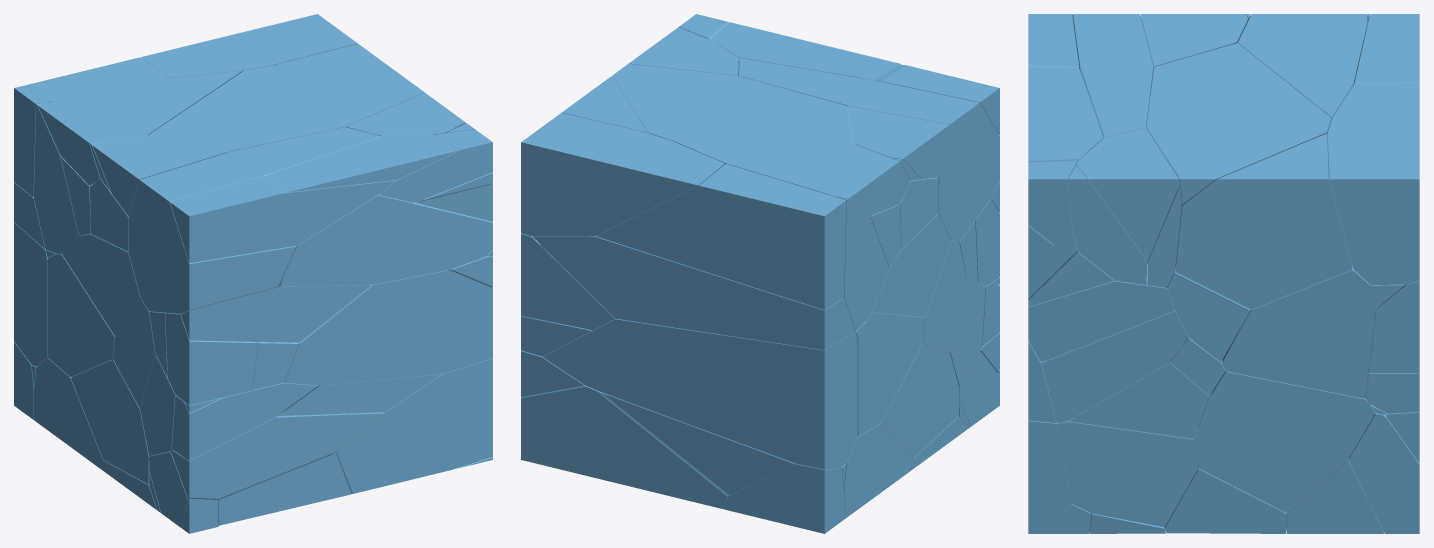
File: NewCubeFrags.fbx
3 renders of one model, left to right at view 1: azimuth 30°, elevation 25°; view 2: azimuth 150°, elevation 25°; view 3: azimuth 270°, elevation 25°, orthographic. The views are drawn at different scales.
Parts seen in each view (by area): view 1: CubeAst_cell.030, CubeAst_cell.040, CubeAst_cell.025, CubeAst_cell.029, CubeAst_cell, CubeAst_cell.044, CubeAst_cell.005, CubeAst_cell.007, CubeAst_cell.011, CubeAst_cell.022, CubeAst_cell.016, CubeAst_cell.004 (+26 smaller); view 2: CubeAst_cell.015, CubeAst_cell.002, CubeAst_cell.022, CubeAst_cell.026, CubeAst_cell.025, CubeAst_cell.027, CubeAst_cell.040, CubeAst_cell.007, CubeAst_cell.001, CubeAst_cell.037_cell, CubeAst_cell.004, CubeAst_cell.014 (+21 smaller); view 3: CubeAst_cell.013, CubeAst_cell.025, CubeAst_cell.024, CubeAst_cell.022, CubeAst_cell.043, CubeAst_cell.003, CubeAst_cell.007, CubeAst_cell.047, CubeAst_cell.040, CubeAst_cell.033_cell.001, CubeAst_cell.048, CubeAst_cell.016 (+24 smaller).
Boxes of the visible parts, x1=… form: CubeAst_cell.030: x1=284, y1=270, x2=492, y2=385; CubeAst_cell.040: x1=128, y1=127, x2=381, y2=313; CubeAst_cell.025: x1=148, y1=65, x2=424, y2=152; CubeAst_cell.029: x1=280, y1=194, x2=492, y2=286; CubeAst_cell: x1=331, y1=358, x2=492, y2=493; CubeAst_cell.044: x1=170, y1=175, x2=395, y2=263; CubeAst_cell.005: x1=171, y1=410, x2=384, y2=499; CubeAst_cell.007: x1=38, y1=70, x2=242, y2=185; CubeAst_cell.011: x1=181, y1=285, x2=371, y2=342; CubeAst_cell.022: x1=140, y1=14, x2=357, y2=78; CubeAst_cell.016: x1=268, y1=134, x2=458, y2=192; CubeAst_cell.004: x1=47, y1=253, x2=115, y2=376; CubeAst_cell.015: x1=542, y1=304, x2=857, y2=469; CubeAst_cell.002: x1=596, y1=164, x2=846, y2=310; CubeAst_cell.022: x1=521, y1=113, x2=724, y2=236; CubeAst_cell.026: x1=532, y1=235, x2=855, y2=350; CubeAst_cell.025: x1=612, y1=63, x2=854, y2=144; CubeAst_cell.027: x1=521, y1=383, x2=845, y2=508; CubeAst_cell.040: x1=738, y1=58, x2=999, y2=241; CubeAst_cell.007: x1=674, y1=141, x2=910, y2=215; CubeAst_cell.001: x1=602, y1=393, x2=796, y2=495; CubeAst_cell.037_cell: x1=723, y1=464, x2=844, y2=533; CubeAst_cell.004: x1=857, y1=312, x2=924, y2=436; CubeAst_cell.014: x1=880, y1=343, x2=959, y2=457; CubeAst_cell.013: x1=1175, y1=133, x2=1352, y2=309; CubeAst_cell.025: x1=1146, y1=43, x2=1331, y2=207; CubeAst_cell.024: x1=1194, y1=371, x2=1374, y2=513; CubeAst_cell.022: x1=1327, y1=82, x2=1419, y2=284; CubeAst_cell.043: x1=1222, y1=265, x2=1376, y2=398; CubeAst_cell.003: x1=1057, y1=421, x2=1197, y2=527; CubeAst_cell.007: x1=1234, y1=14, x2=1367, y2=118; CubeAst_cell.047: x1=1041, y1=287, x2=1187, y2=423; CubeAst_cell.040: x1=1072, y1=14, x2=1154, y2=147; CubeAst_cell.033_cell.001: x1=1076, y1=128, x2=1179, y2=263; CubeAst_cell.048: x1=1028, y1=264, x2=1174, y2=361; CubeAst_cell.016: x1=1028, y1=67, x2=1103, y2=160.
Bounding box in the file's own units: 100 × 100 × 100.
